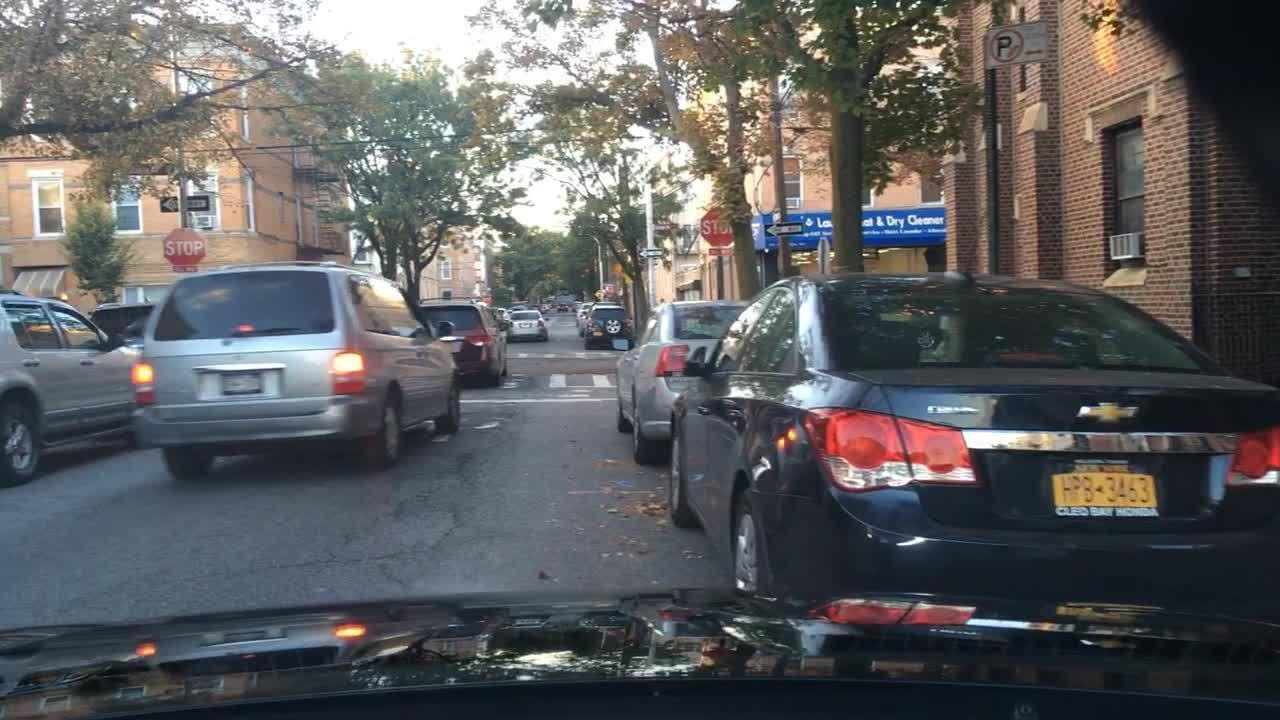chevrolet: (1075, 396, 1158, 432)
